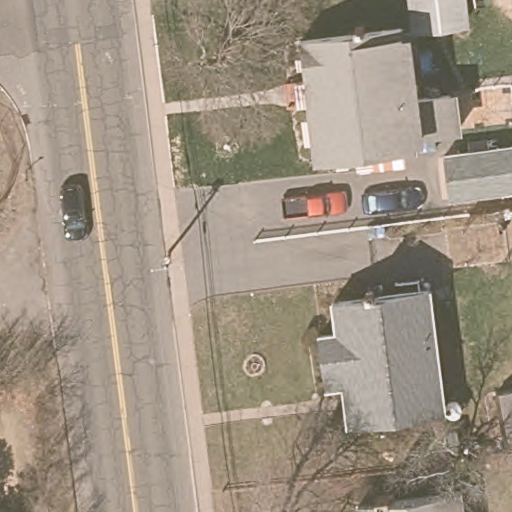DT: (149, 209, 200, 279)
